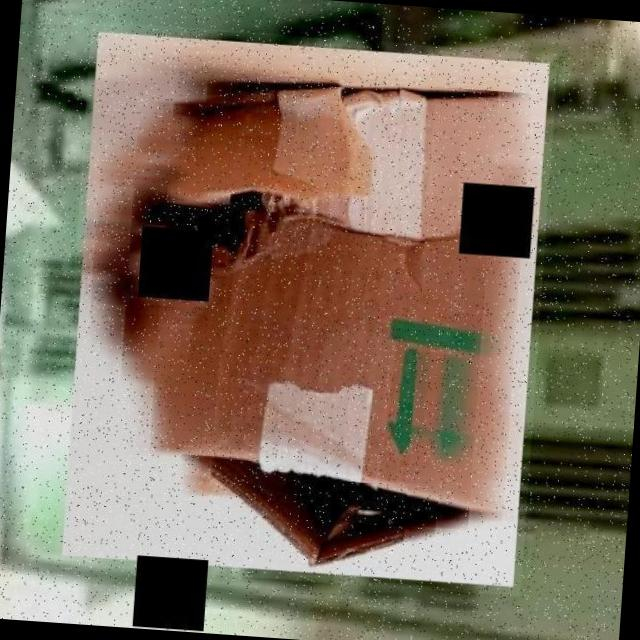box: (54, 21, 559, 596)
